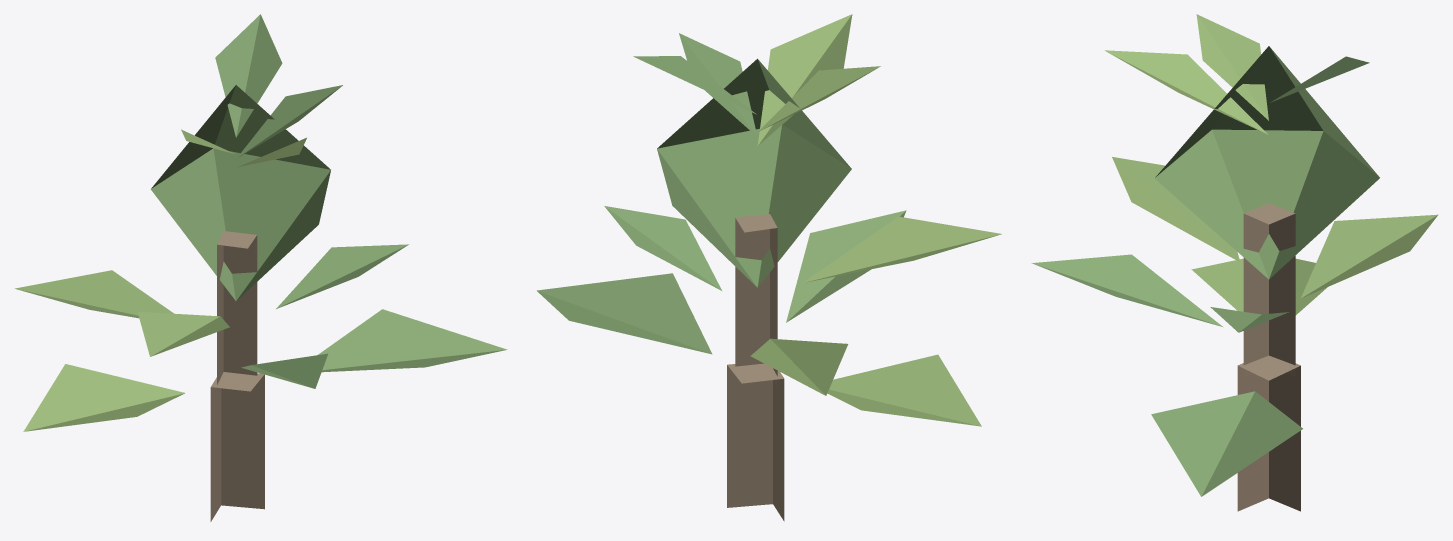
File: shu.wujiaofeng@seedling__bloom.glb
3 renders of one model, left to right at view 1: azimuth 30°, elevation 25°; view 2: azimuth 150°, elevation 25°; view 3: azimuth 270°, elevation 25°, orthographic. The views are drawn at different scales.
Parts seen in each view (by area): view 1: shu.wujiaofeng@seedling__bloom; view 2: shu.wujiaofeng@seedling__bloom; view 3: shu.wujiaofeng@seedling__bloom.
Boxes of the visible parts, left/top/right/bottom form: shu.wujiaofeng@seedling__bloom: left=15, top=14, right=507, bottom=521; shu.wujiaofeng@seedling__bloom: left=537, top=14, right=1001, bottom=521; shu.wujiaofeng@seedling__bloom: left=1031, top=14, right=1438, bottom=511.
Size of the model in its own units: 1.26 by 1.2 by 0.9071.
